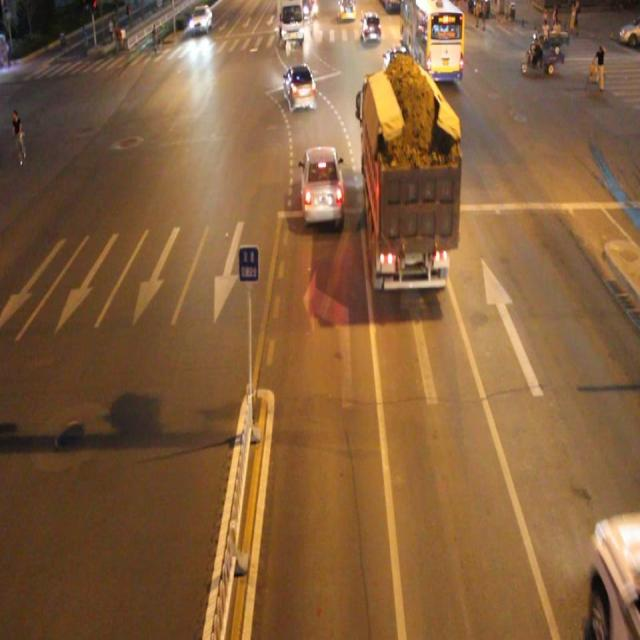bus: (362, 74, 452, 290)
car: (299, 146, 342, 223), (282, 62, 315, 115), (380, 45, 415, 91)
